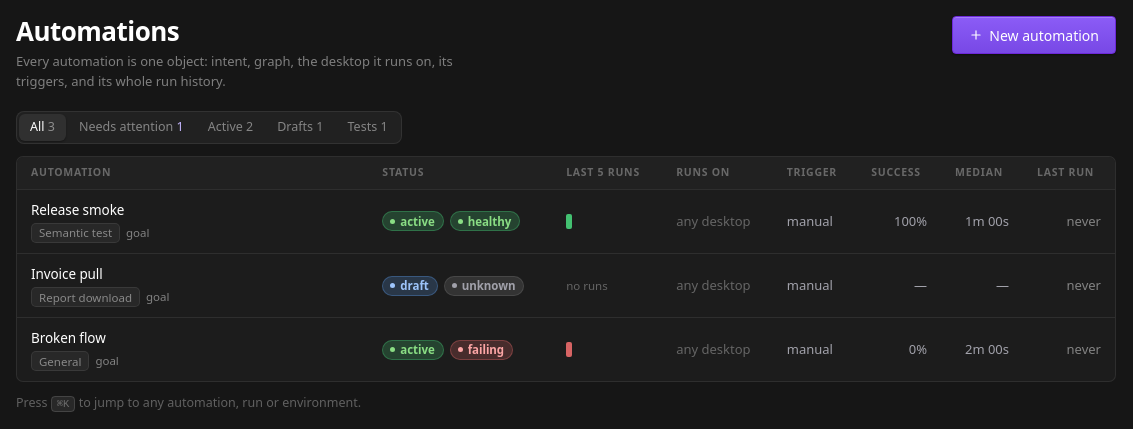
Scenario: AutomationsList › filters by view and shows run history per row
The image size is (1133, 429).
Expected: the text "Release smoke" is shown, [31,201,124,219]
Expected: the text "Invoice pull" is shown, [31,265,103,283]
Click the tab "Tests 1" at (368, 128), box [336,114,398,141]
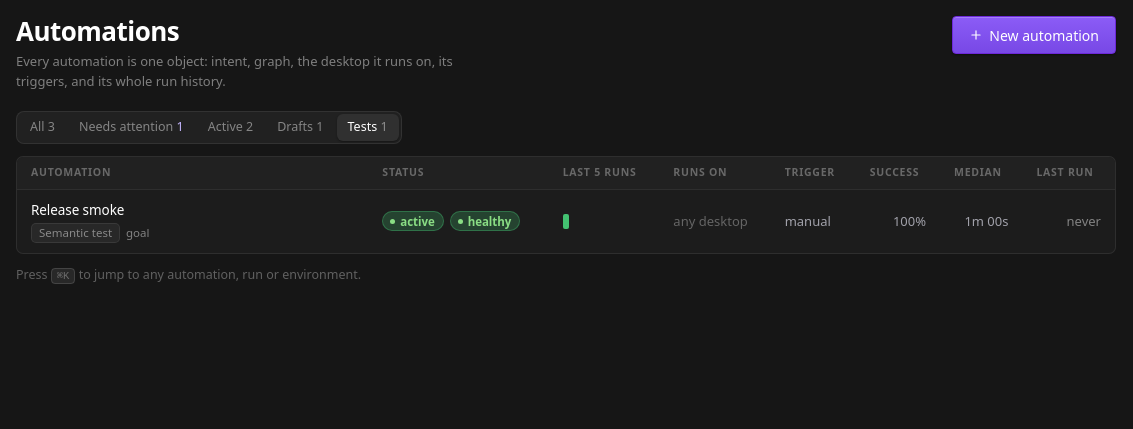
Expected: the text "Release smoke" is shown, [31,201,124,219]
Expected: the link "Invoice pull" is gone
Click the tab "Needs attention 1" at (131, 128), box [68,114,195,141]
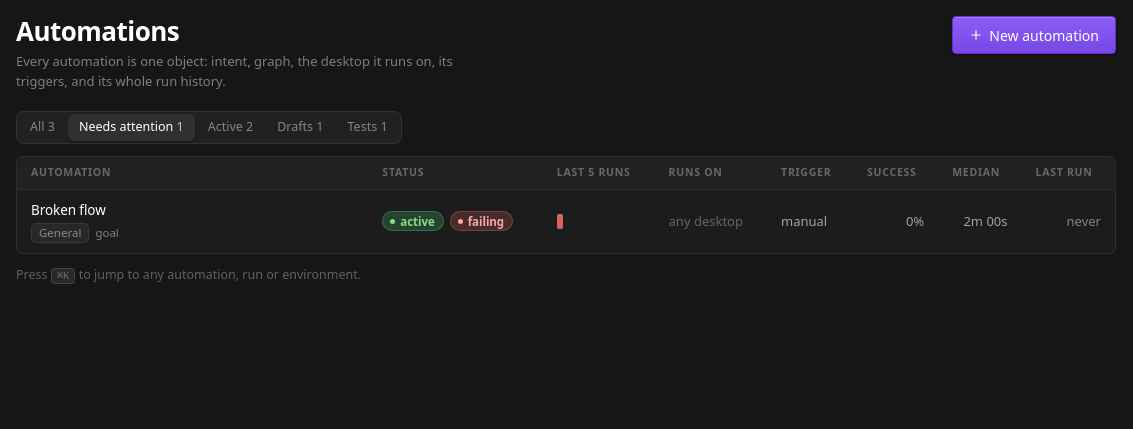
Expected: the text "Broken flow" is shown, [31,201,106,219]
Expected: the link "Release smoke" is gone
Click the tab "Drafts 1" at (300, 128), box [266,114,334,141]
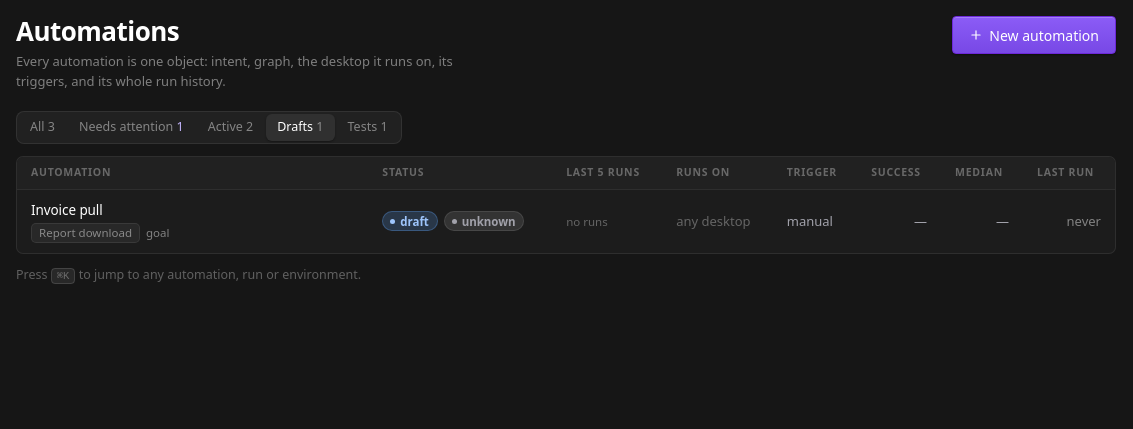
Expected: the text "Invoice pull" is shown, [31,201,103,219]
